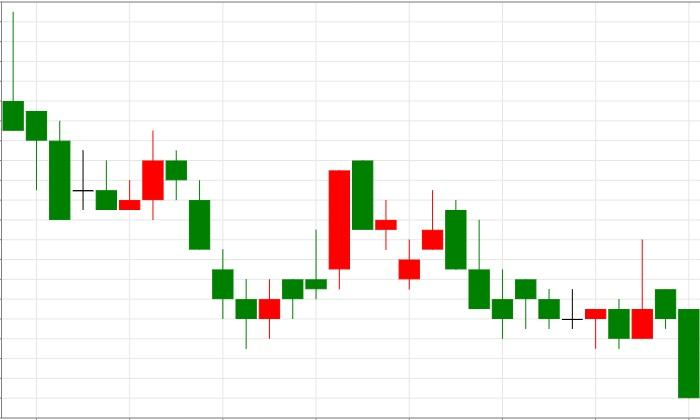inverse_hammer_rise: (445, 201, 652, 349)
